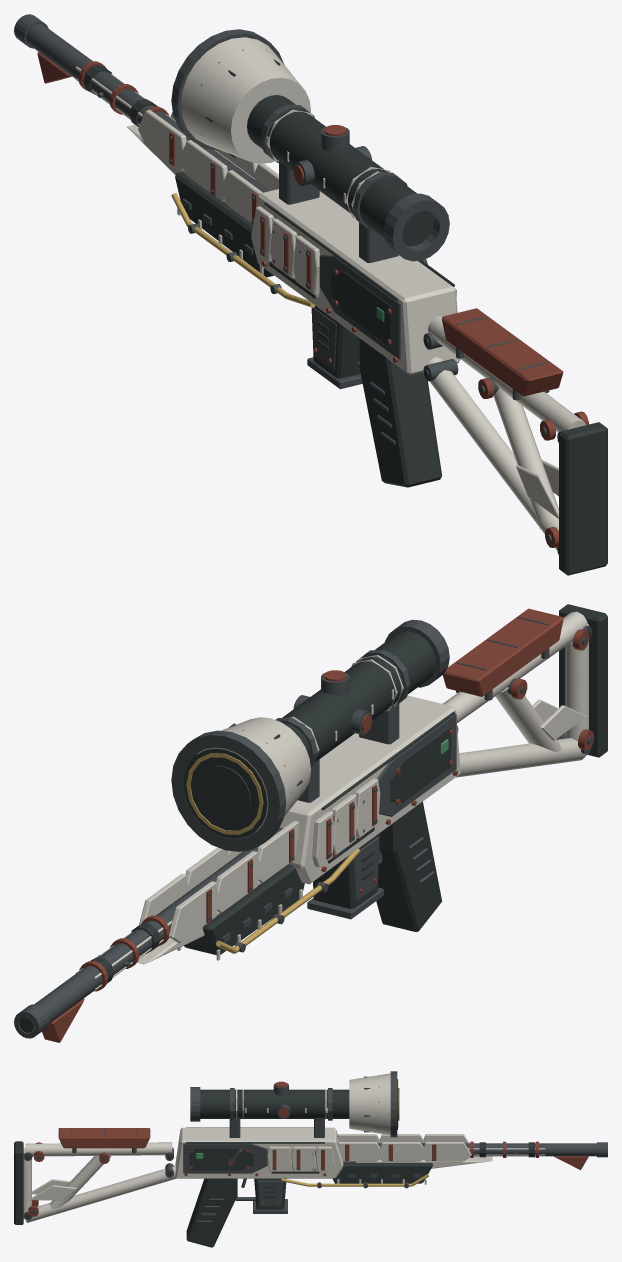
File: sniper_1.glb
3 renders of one model, top to bottom at view 1: azimuth 30°, elevation 25°; view 2: azimuth 150°, elevation 25°; view 3: azimuth 270°, elevation 25°, orthographic. The views are drawn at different scales.
Visible parts, largest first — view 1: Weapon_sniper_v1; view 2: Weapon_sniper_v1; view 3: Weapon_sniper_v1.
Part boxes in pixels (box(x1,y1,x2,y2)): Weapon_sniper_v1: box(14, 14, 607, 575); Weapon_sniper_v1: box(14, 604, 607, 1042); Weapon_sniper_v1: box(14, 1071, 607, 1247).
Bounding box in the file's own units: 0.122 × 0.3431 × 1.09.
